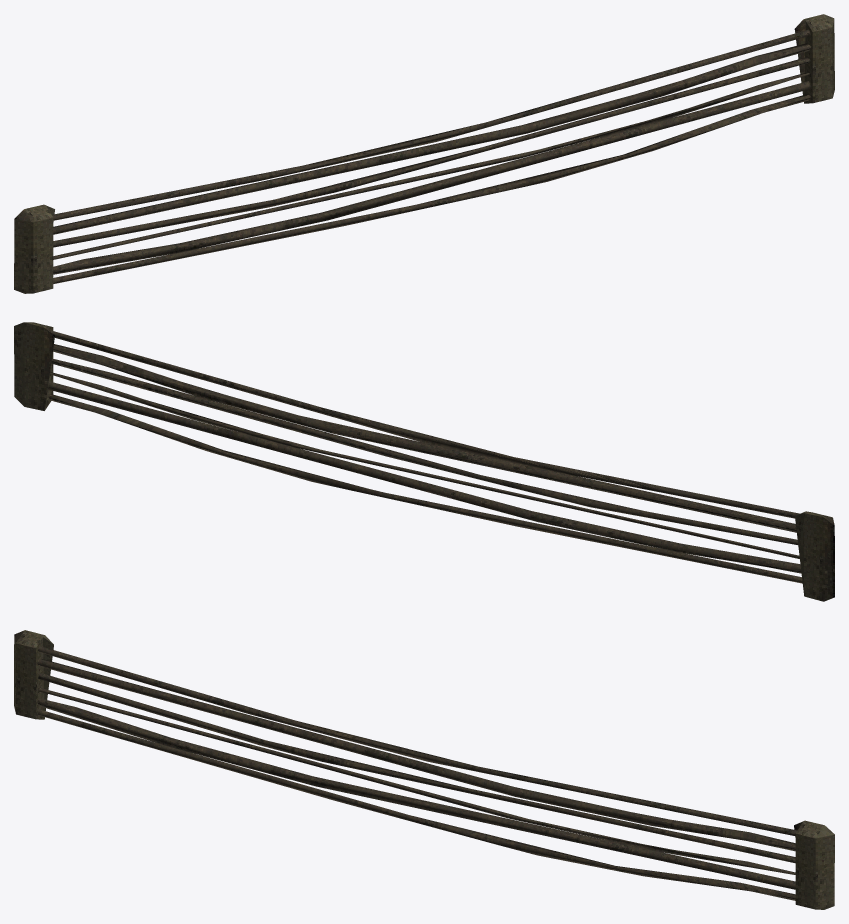
The model's file is wires_hr_1.glb.
The picture shows the model from 3 angles, top to bottom: view 1: azimuth 30°, elevation 25°; view 2: azimuth 150°, elevation 25°; view 3: azimuth 330°, elevation 25°; orthographic projection.
Visible parts, largest first — view 1: wires_hr_1; view 2: wires_hr_1; view 3: wires_hr_1.
Boxes of the visible parts, x1=… form: wires_hr_1: x1=14, y1=14, x2=834, y2=293; wires_hr_1: x1=14, y1=322, x2=834, y2=601; wires_hr_1: x1=14, y1=630, x2=834, y2=909.
Size of the model in its own units: 4.11 by 0.4537 by 0.08.
Materials: 1 (1 with a texture image).
